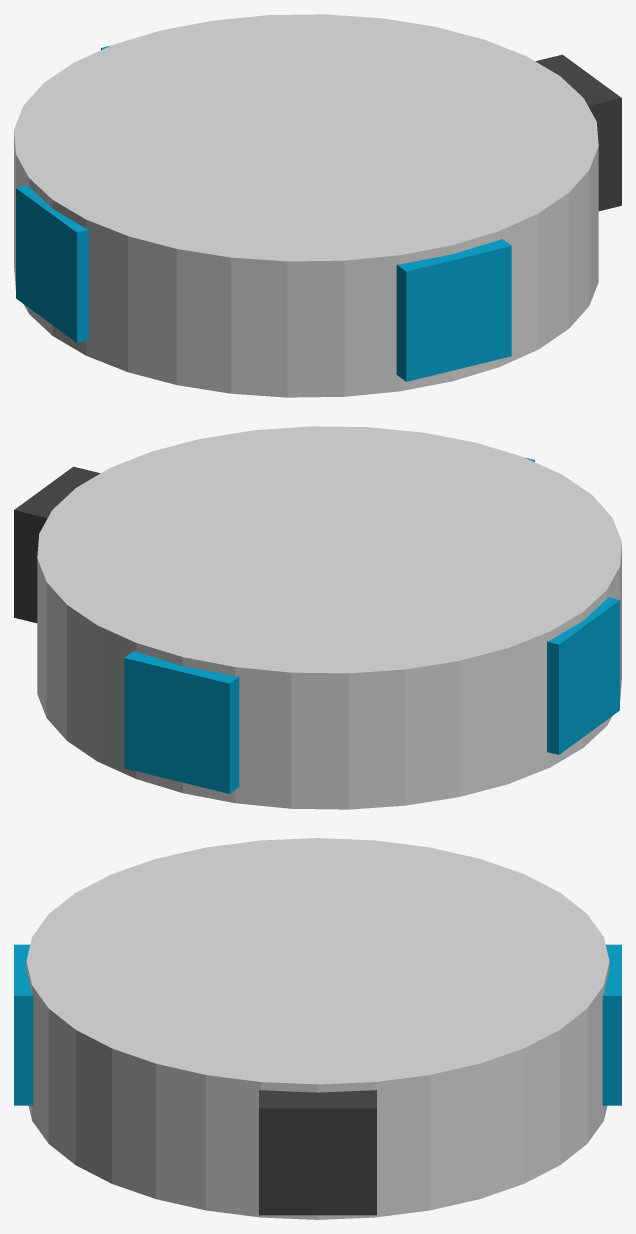
File: khepera.dae
3 renders of one model, top to bottom at view 1: azimuth 30°, elevation 25°; view 2: azimuth 150°, elevation 25°; view 3: azimuth 270°, elevation 25°, orthographic.
Visible parts, largest first — view 1: body, t_2, t_3, eye; view 2: body, t_1, t_3, eye; view 3: body, eye, t_2, t_1.
Part boxes in pixels (x1,y1,x2,y2): body: (14,14,598,397); t_2: (396,239,511,381); t_3: (16,185,88,342); eye: (535,54,621,211); body: (37,426,621,809); t_1: (124,651,239,793); t_3: (547,597,619,754); eye: (14,466,100,623); body: (26,838,609,1219); eye: (259,1090,376,1215); t_2: (14,944,33,1105); t_1: (602,944,621,1105).
Size of the model in its own units: 1.51 by 1.46 by 0.3597.
